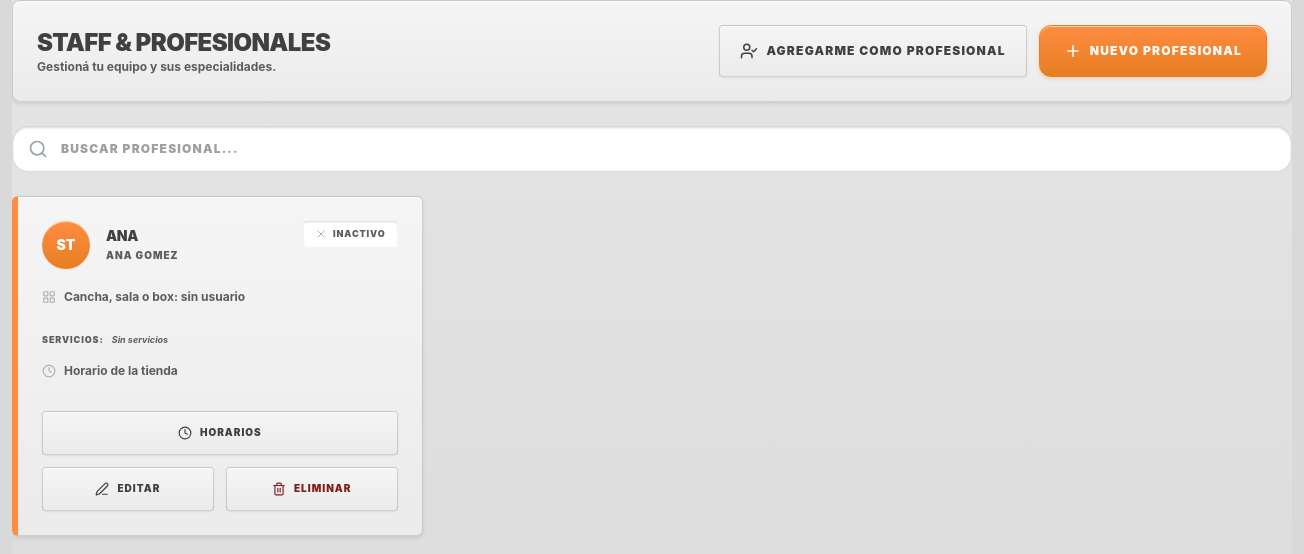
StaffManagementContainer: búsqueda y estados vacíos › anuncia por separado cuando la búsqueda no coincide con el catálogo
This screenshot has width=1304, height=554.
Type "inesistente" into the search field named "Buscar profesional o recurso" at x=652, y=149, box [12, 126, 1292, 172]
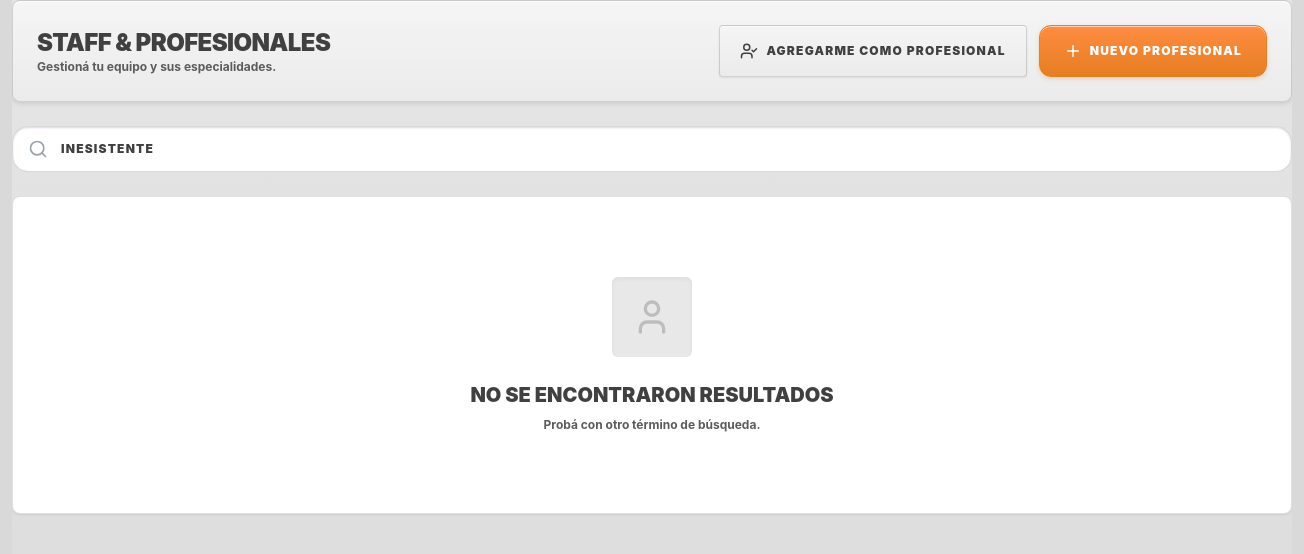
Check: the message does not show "Todavía no hay profesionales ni recursos", box [12, 196, 1292, 514]
Check: the message shows "No se encontraron resultados", box [470, 383, 834, 407]
Check: the message shows "Probá con otro término de búsqueda.", box [544, 417, 760, 432]
